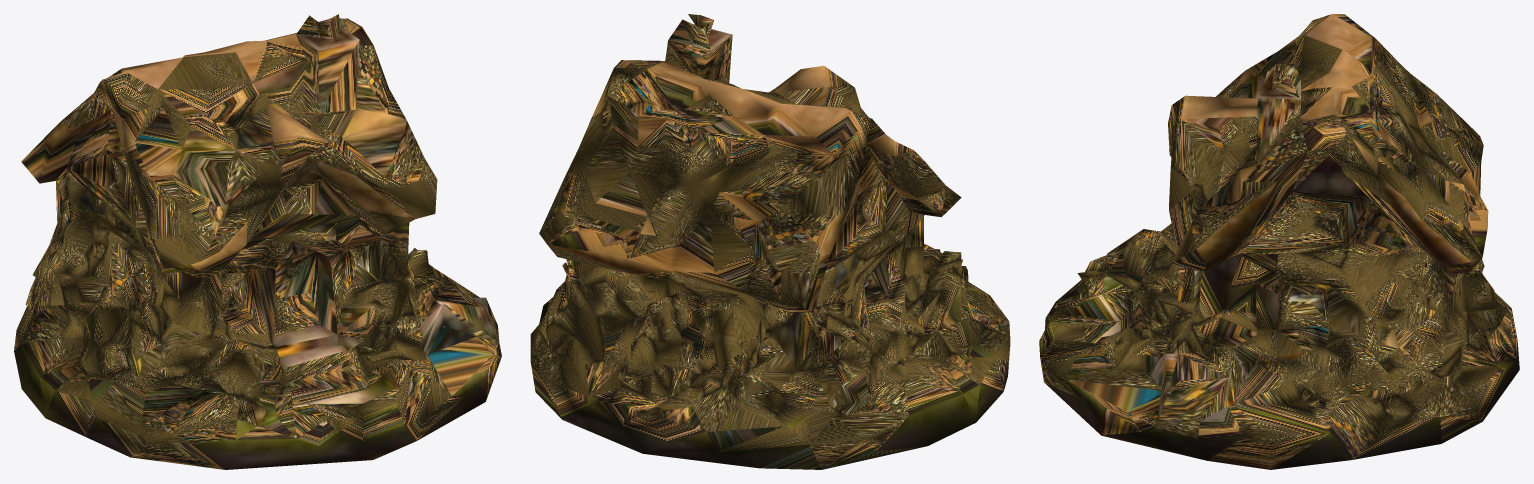
The model's file is Enchanted_Thatch_Cott.glb.
3 renders of one model, left to right at view 1: azimuth 30°, elevation 25°; view 2: azimuth 150°, elevation 25°; view 3: azimuth 270°, elevation 25°, orthographic.
Parts seen in each view (by area): view 1: Enchanted_Thatch_Cott; view 2: Enchanted_Thatch_Cott; view 3: Enchanted_Thatch_Cott.
Part boxes in pixels (bbox=[...]): Enchanted_Thatch_Cott: bbox=[14, 14, 501, 469]; Enchanted_Thatch_Cott: bbox=[530, 14, 1010, 469]; Enchanted_Thatch_Cott: bbox=[1039, 14, 1519, 469].
Bounding box in the file's own units: 1.87 × 1.46 × 1.88.
Materials: 1 (1 with a texture image).
